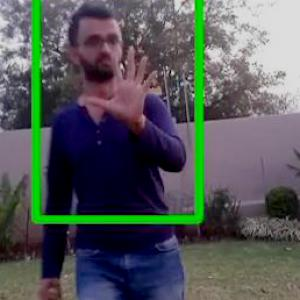follow_hand: (82, 41, 162, 130)
